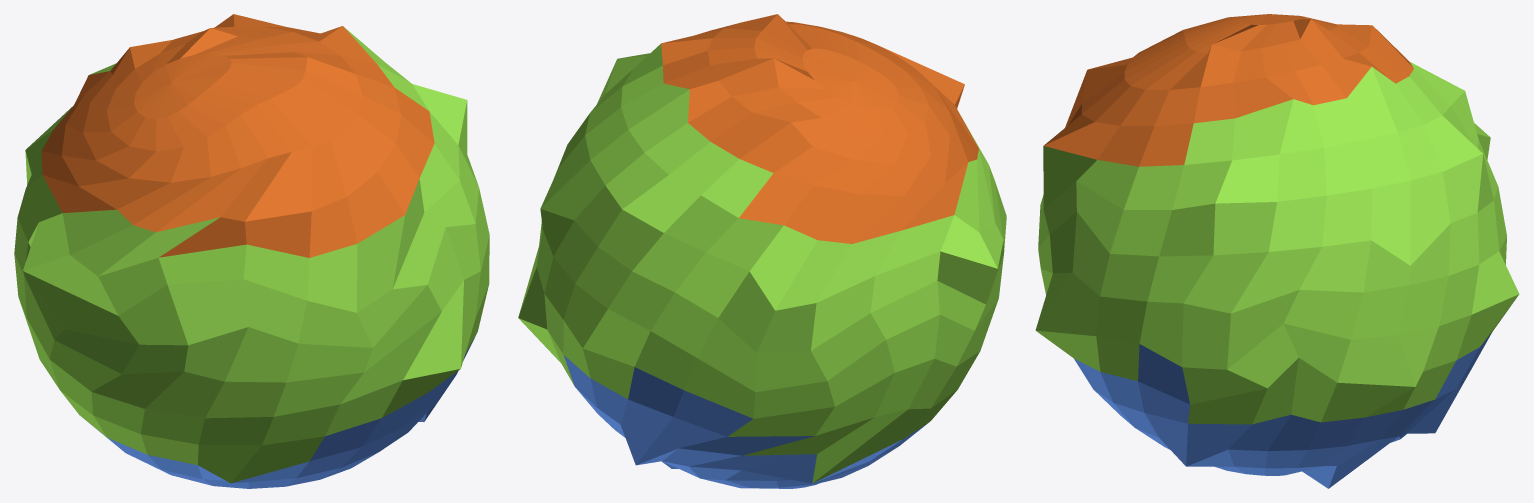
Rendered from Planet6.glb.
3 renders of one model, left to right at view 1: azimuth 30°, elevation 25°; view 2: azimuth 150°, elevation 25°; view 3: azimuth 270°, elevation 25°, orthographic. The views are drawn at different scales.
Parts seen in each view (by area): view 1: Planet6; view 2: Planet6; view 3: Planet6.
Boxes of the visible parts, x1,y1,x2,y2 form: Planet6: [14, 14, 489, 488]; Planet6: [518, 14, 1006, 488]; Planet6: [1035, 14, 1519, 488].
Size of the model in its own units: 11.64 by 10.87 by 11.24.
1 material, 1 textured.
